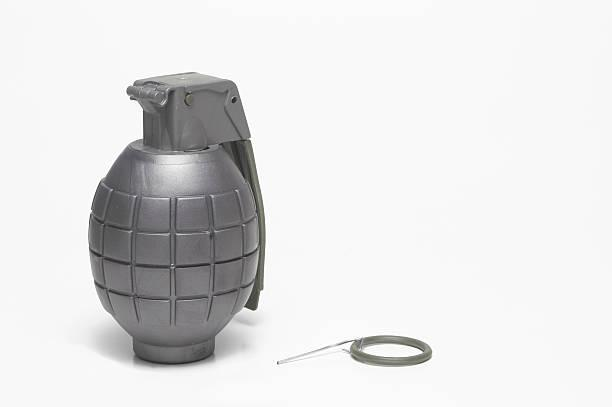Grenade: (87, 70, 432, 367)
